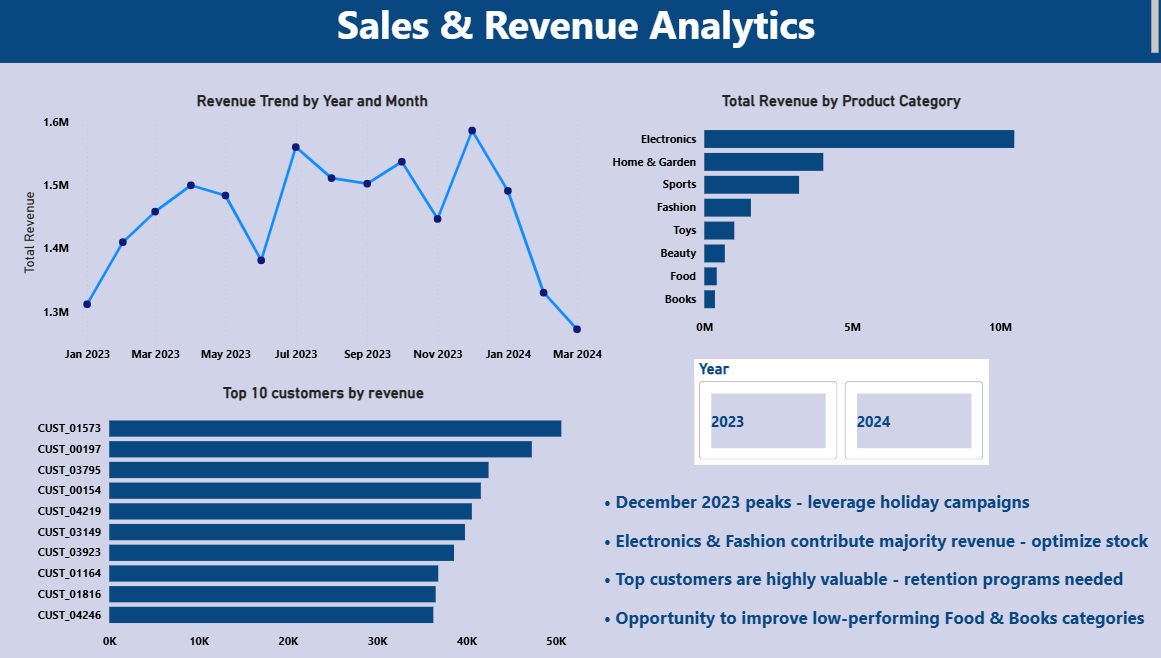

The page's visual inventory and layout, read from the dashboard file:
{"tool":"powerbi","page":{"name":"Revenue Trends","canvas":[1280,739],"ordinal":2},"visuals":[{"type":"textbox","box":[0,0,1280.3,76.8],"z":0},{"type":"lineChart","title":"Revenue Trend by Year and Month","fields":{"Y":["ecommerce_cleaned.Total Revenue"],"Category":["ecommerce_cleaned.Date.Variation.Date Hierarchy.Year","ecommerce_cleaned.Date.Variation.Date Hierarchy.Month"]},"box":[23.5,109,645.7,306.3],"z":1000},{"type":"clusteredBarChart","title":"Total Revenue by Product Category","fields":{"Category":["ecommerce_cleaned.Product_Category"],"Y":["ecommerce_cleaned.Total Revenue"]},"box":[669.1,109,514.6,277.3],"z":2000},{"type":"barChart","title":"Top 10 customers by revenue","fields":{"Y":["Sum(ecommerce_cleaned.Total_Amount)"],"Category":["ecommerce_cleaned.Customer_ID"]},"box":[38.6,427.7,640.1,302.1],"z":3000},{"type":"textbox","box":[656.3,541.3,624,197.7],"z":4000},{"type":"advancedSlicerVisual","fields":{"Values":["ecommerce_cleaned.Year"]},"box":[765.7,401.5,322.8,115.9],"z":5000}]}

Visuals, with their boxes in screenshot pixels (x1, y1, x2, y2), scaled from the page's 1280x739 canvas onto the 1161x658 screenshot:
textbox: <region>0, 0, 1160, 68</region>
"Revenue Trend by Year and Month" lineChart: <region>21, 97, 607, 370</region>
"Total Revenue by Product Category" clusteredBarChart: <region>607, 97, 1074, 344</region>
"Top 10 customers by revenue" barChart: <region>35, 381, 616, 650</region>
textbox: <region>595, 482, 1160, 657</region>
advancedSlicerVisual - ecommerce_cleaned.Year: <region>695, 357, 987, 461</region>
